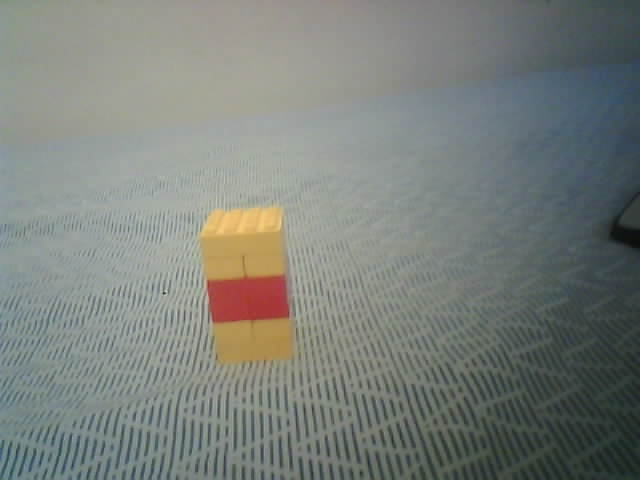lego: (198, 205, 297, 364)
